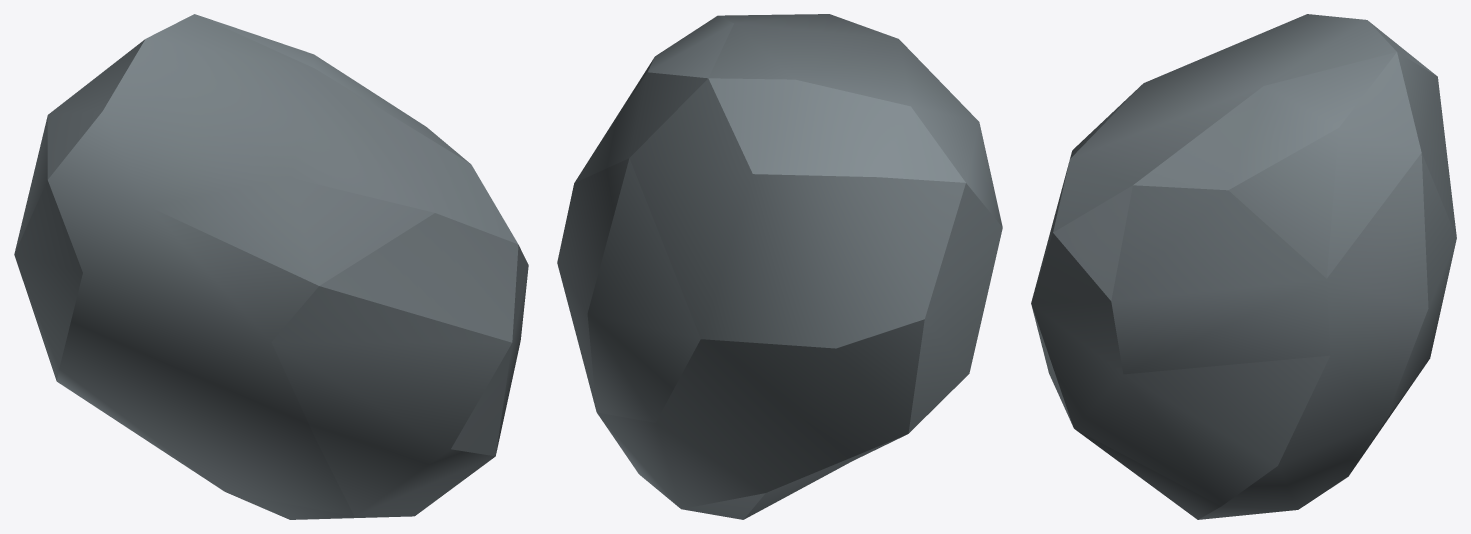
Rendered from kk-rock-tall.glb.
The picture shows the model from 3 angles, left to right: view 1: azimuth 30°, elevation 25°; view 2: azimuth 150°, elevation 25°; view 3: azimuth 270°, elevation 25°; orthographic projection. The views are drawn at different scales.
Parts seen in each view (by area): view 1: Rock_3_C_Color1; view 2: Rock_3_C_Color1; view 3: Rock_3_C_Color1.
Boxes of the visible parts, <box> form: Rock_3_C_Color1: <box>14,14,528,519</box>; Rock_3_C_Color1: <box>557,14,1002,519</box>; Rock_3_C_Color1: <box>1031,14,1456,519</box>.
Bounding box in the file's own units: 0.805 × 0.9676 × 0.8597.
1 material, 1 textured.
